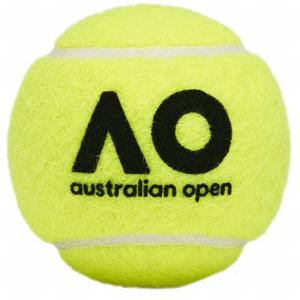Tennis: (0, 0, 300, 293)
